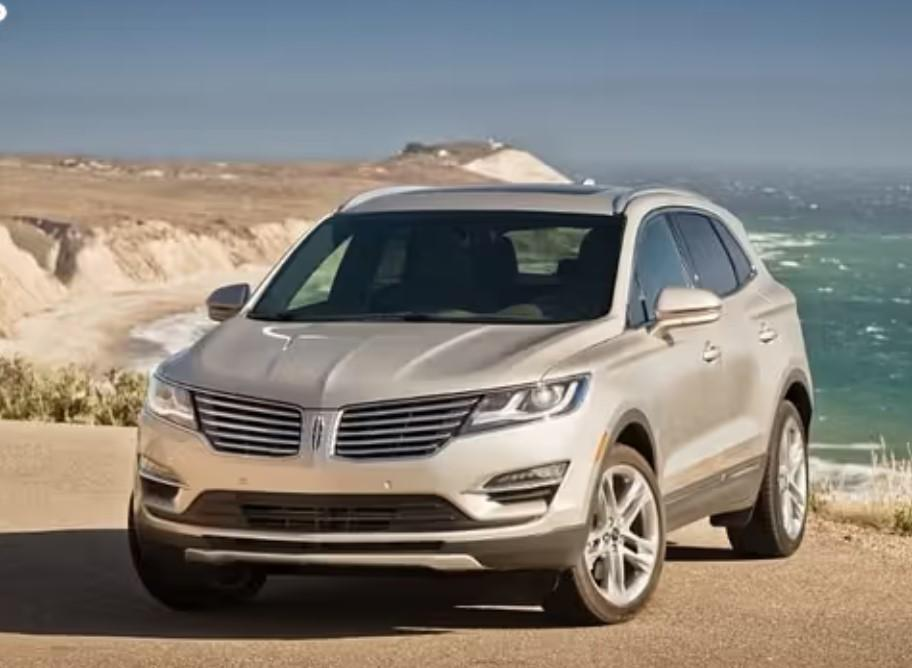lincoln: (300, 407, 333, 460)
